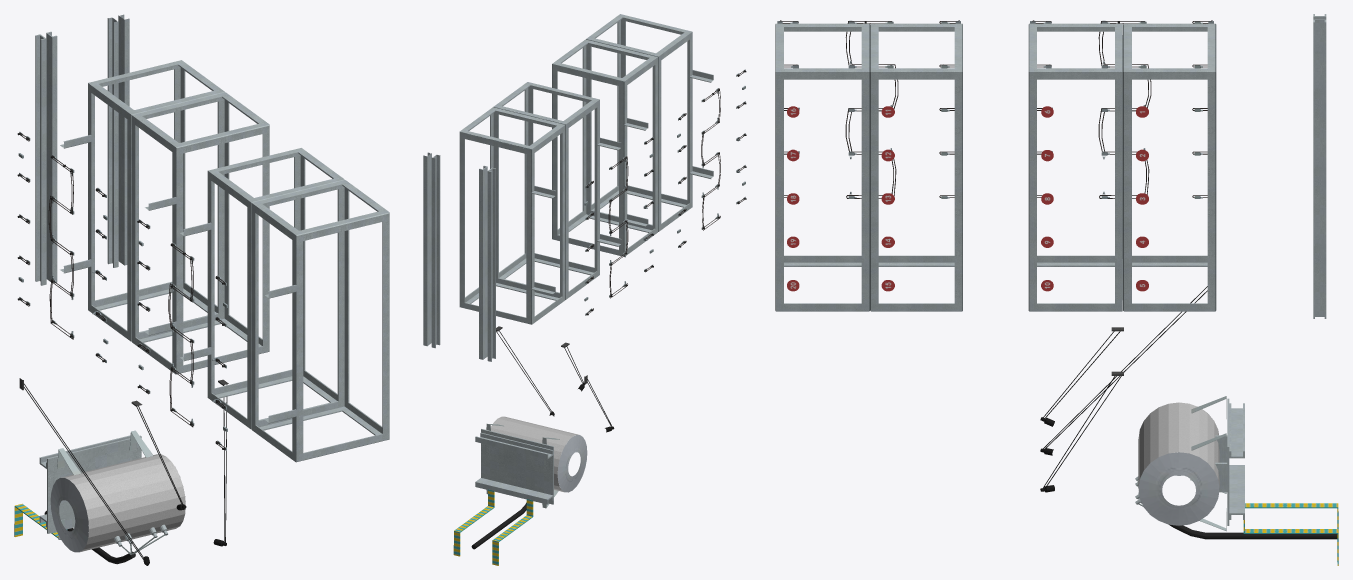
File: dldrq-11m-217843342-geode.glb
3 renders of one model, left to right at view 1: azimuth 30°, elevation 25°; view 2: azimuth 150°, elevation 25°; view 3: azimuth 270°, elevation 25°, orthographic. The views are drawn at different scales.
Visible parts, largest first — view 1: Node; view 2: Node; view 3: Node.
Part boxes in pixels (x1=…): Node: x1=14, y1=14, x2=389, y2=565; Node: x1=423, y1=14, x2=746, y2=565; Node: x1=775, y1=14, x2=1338, y2=565.
Bounding box in the file's own units: 1.32 × 3.59 × 3.46.
17 materials, 17 textured.
